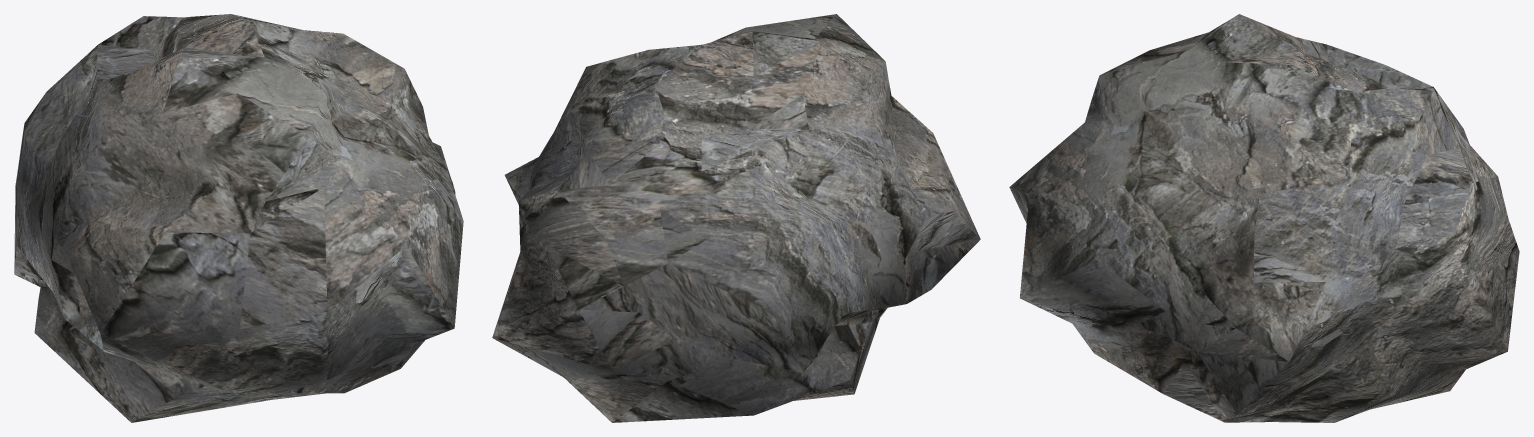
Rendered from kivi5.fbx.
3 renders of one model, left to right at view 1: azimuth 30°, elevation 25°; view 2: azimuth 150°, elevation 25°; view 3: azimuth 270°, elevation 25°, orthographic. The views are drawn at different scales.
Parts seen in each view (by area): view 1: Icosphere_001; view 2: Icosphere_001; view 3: Icosphere_001.
Part boxes in pixels (x1=…): Icosphere_001: x1=14, y1=14, x2=463, y2=422; Icosphere_001: x1=492, y1=14, x2=980, y2=422; Icosphere_001: x1=1009, y1=14, x2=1519, y2=422.
Size of the model in its own units: 5.2 by 4.23 by 5.75.
